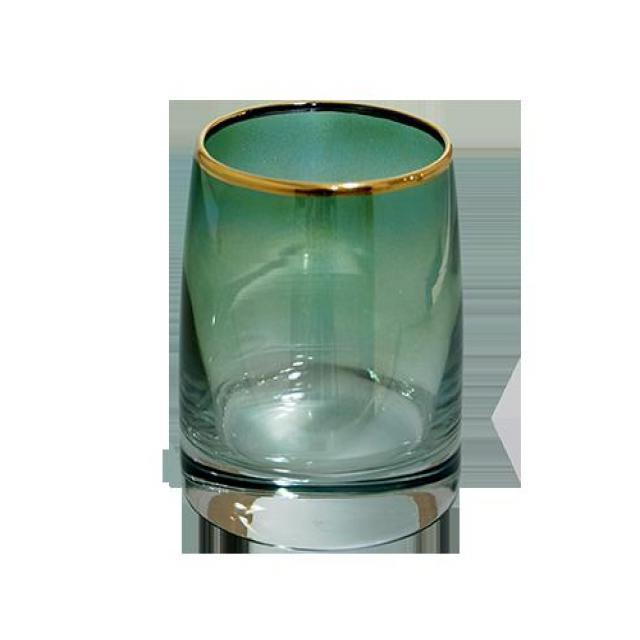glass: (168, 90, 486, 556)
